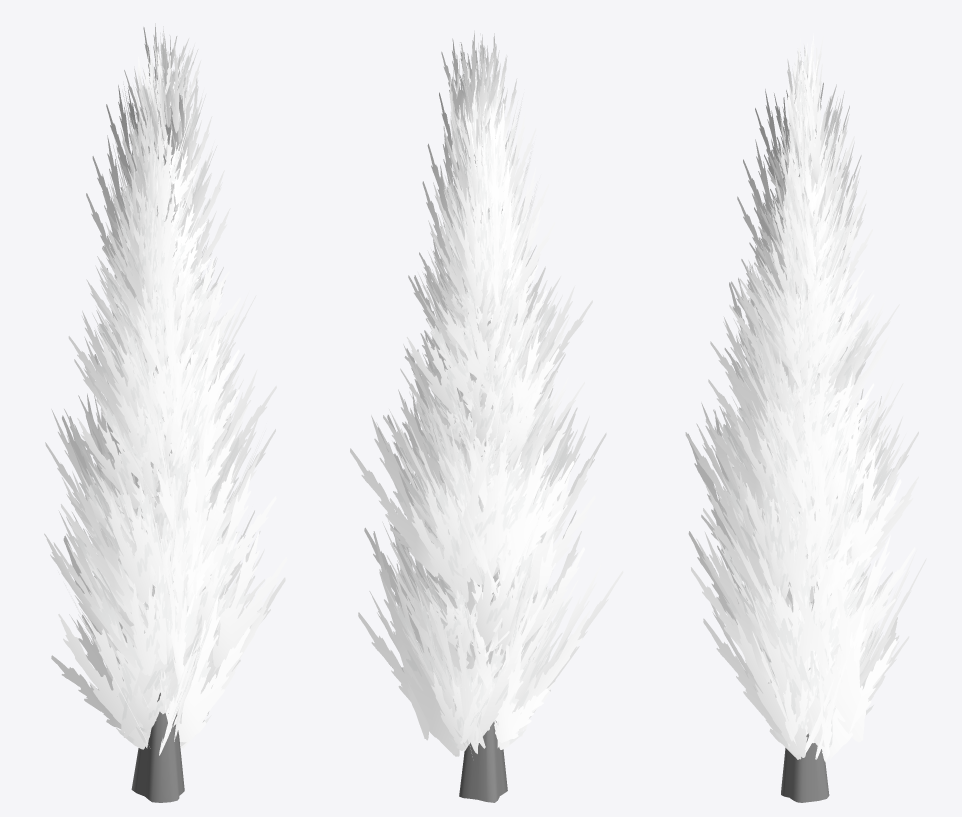
The model's file is Tree_Test_Cypres.fbx.
3 views of the same model, side by side, from view 1: azimuth 30°, elevation 25°; view 2: azimuth 150°, elevation 25°; view 3: azimuth 270°, elevation 25° (orthographic).
Parts seen in each view (by area): view 1: polySurface651; view 2: polySurface651; view 3: polySurface651.
Boxes of the visible parts, x1=… form: polySurface651: x1=44, y1=23, x2=287, y2=802; polySurface651: x1=350, y1=30, x2=623, y2=802; polySurface651: x1=685, y1=33, x2=926, y2=802.
Size of the model in its own units: 251 by 725 by 236.
